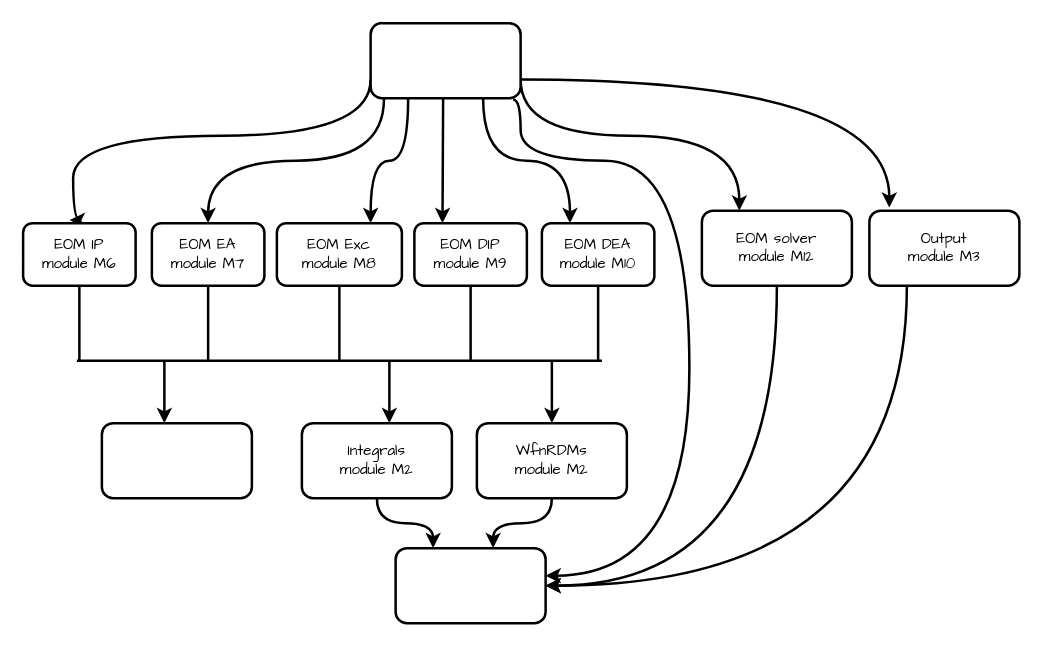
This 1041x645 diagram has some shape labels left out. Here are the shapes that lost their labels. From the top down, the centre of each, then its label:
At pixel 445 60: "Control module M4".
At pixel 176 460: "EOM base module M5".
At pixel 470 585: "Input module M2".
